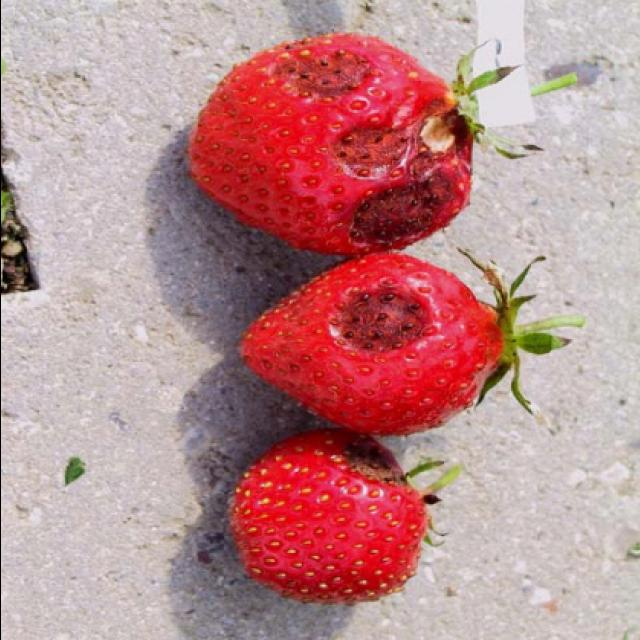Anthracnose Fruit Rot: (269, 36, 466, 250), (338, 280, 426, 358), (340, 440, 408, 494)
